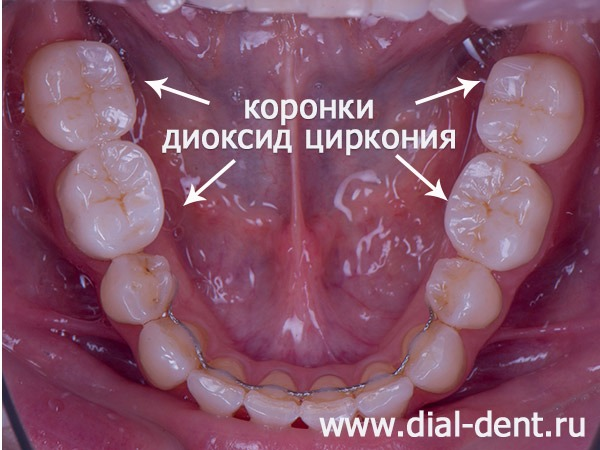LL1BC_healthy: (431, 260, 501, 324)
LL1M_healthy: (482, 55, 583, 160)
LL2BC_healthy: (450, 155, 550, 269)
LLCI_healthy: (301, 376, 356, 416)
LLC_decay: (403, 325, 464, 390)
LLLI_decay: (356, 365, 412, 416)
LR1BC_decay: (101, 256, 177, 322)
LR1M_healthy: (27, 42, 135, 147)
LR2BC_healthy: (58, 142, 164, 254)
LRCI_decay: (245, 373, 299, 426)
LRC_decay: (138, 317, 203, 387)
LRLI_decay: (191, 358, 246, 414)
